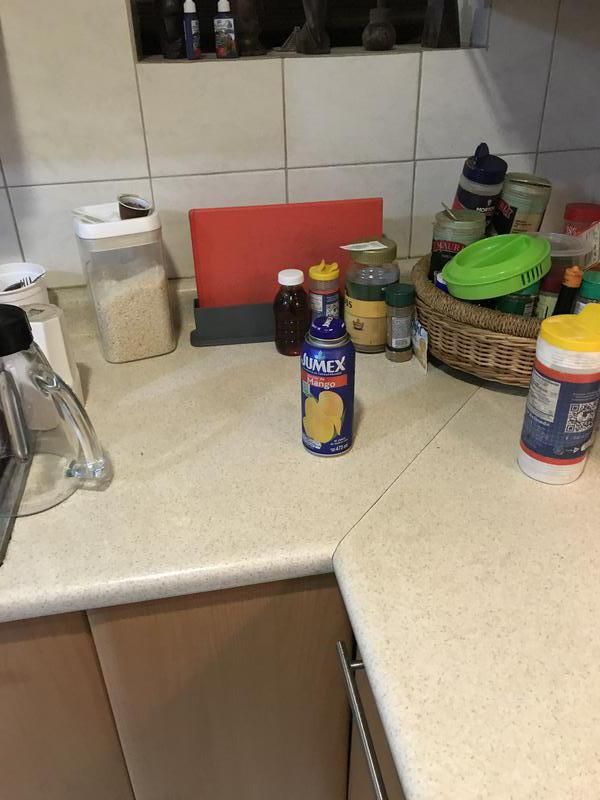jugo_jumex: (299, 318, 357, 452)
